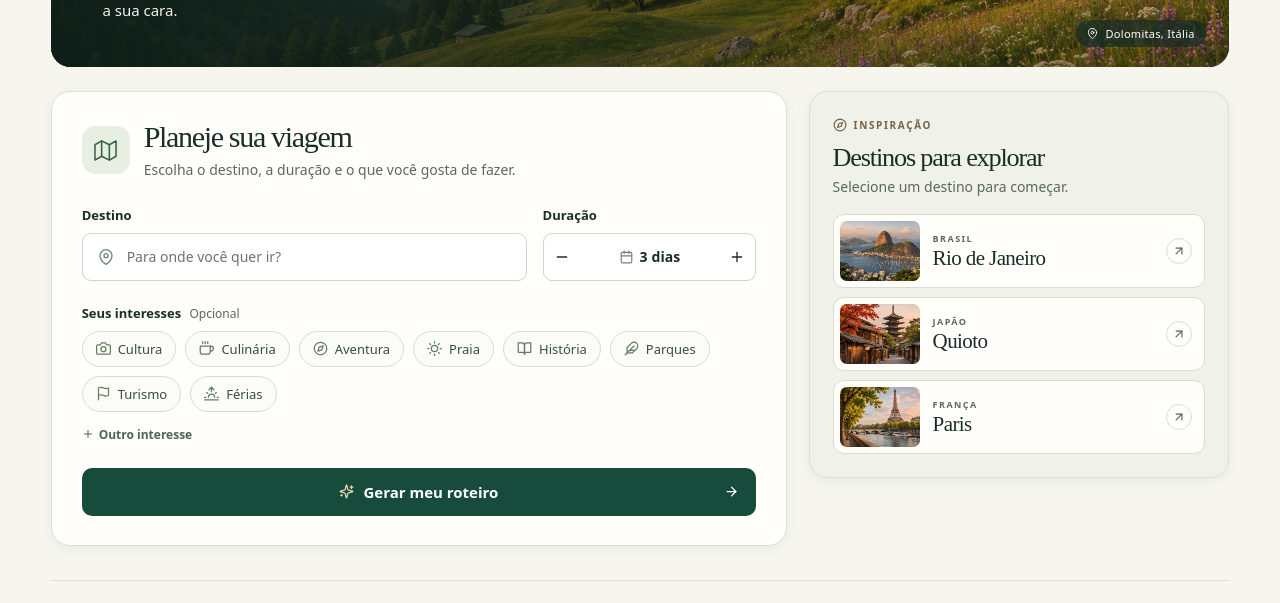
Test: a destination suggestion and custom interest produce a day-by-day plan
The image size is (1280, 603).
(page scrolled)
Click the button with aria-label "Planejar viagem para Paris": (880, 417) [833,380,1205,454]
(page scrolled)
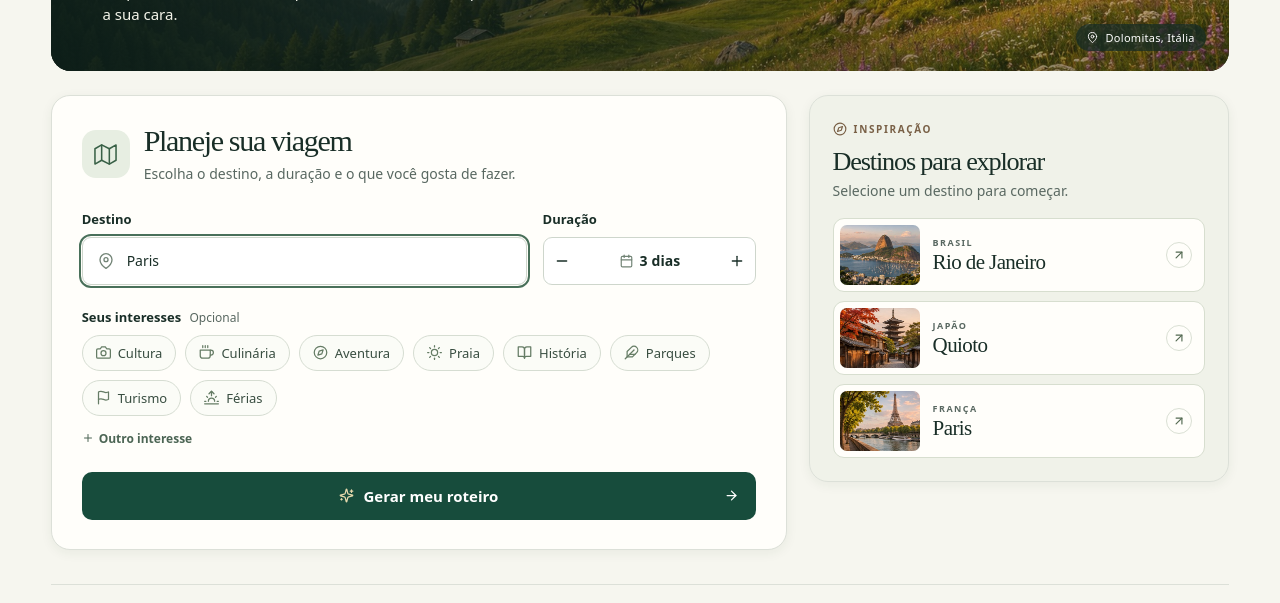
Click the button "Cultura": (129, 353) [82,335,176,371]
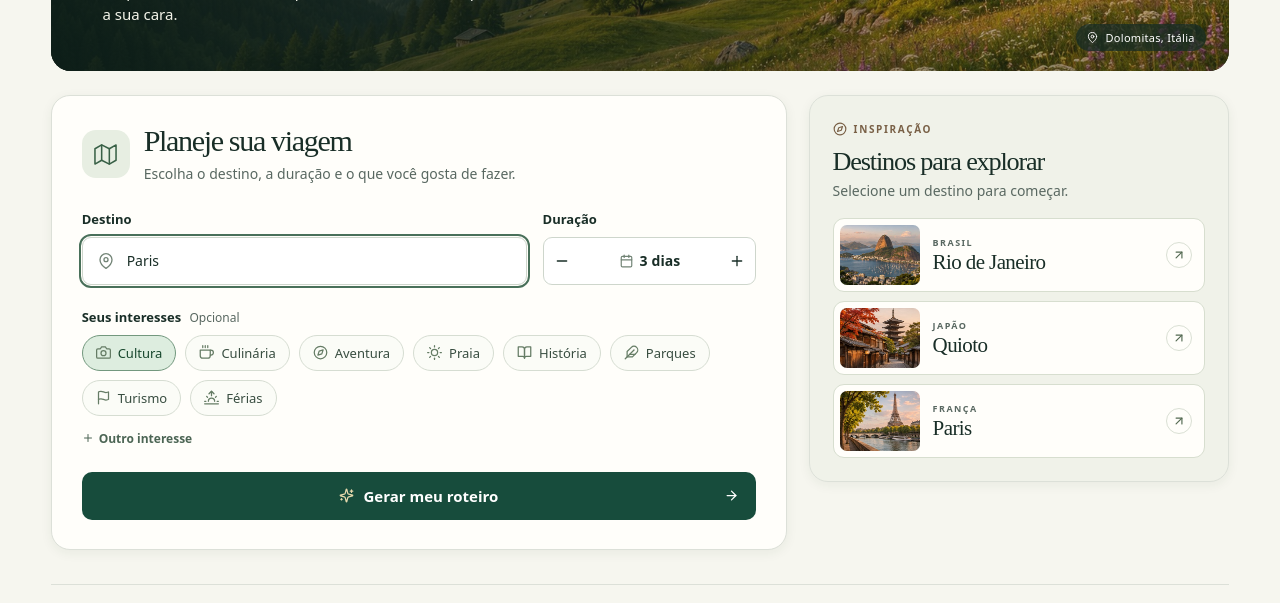
Click the button "Outro interesse": (137, 438) [82,425,192,452]
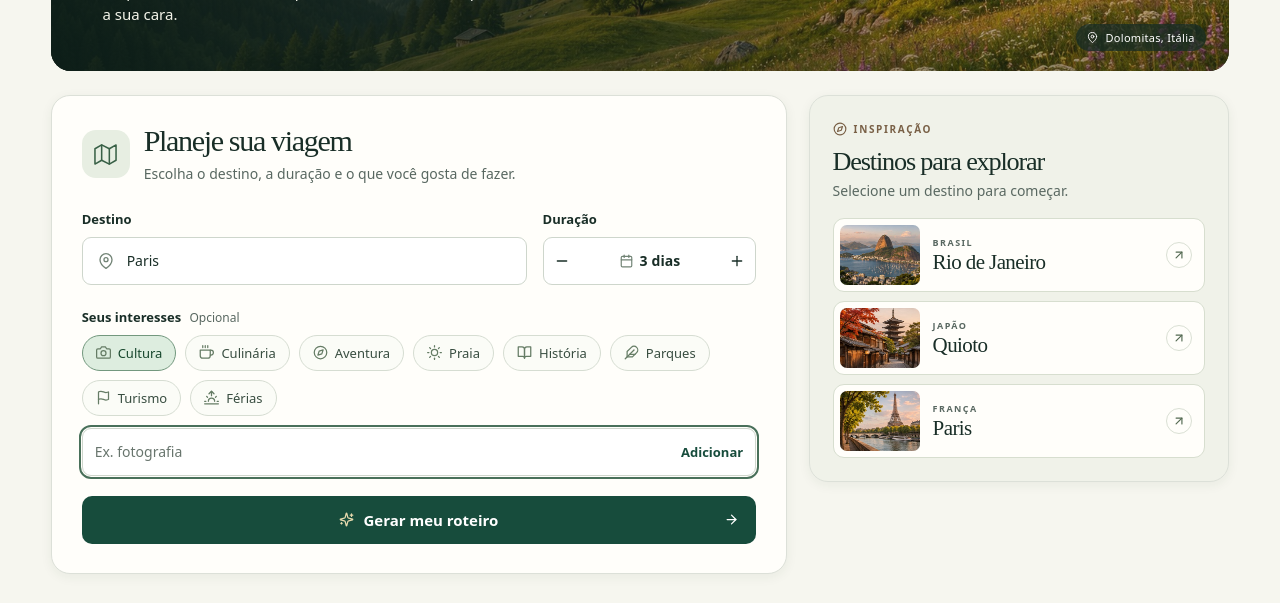
In the field named "Outro interesse": (376, 452) [83,430,669,474], type "Jazz"
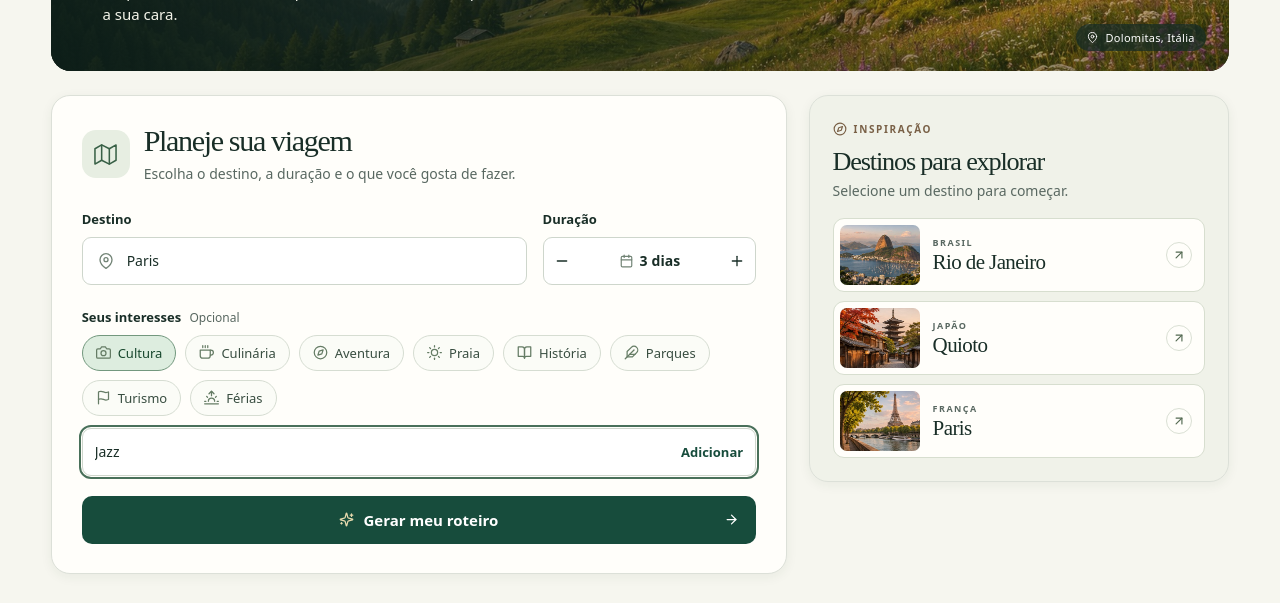
Click the button "Gerar meu roteiro": (419, 520) [82,496,756,544]
(page scrolled)
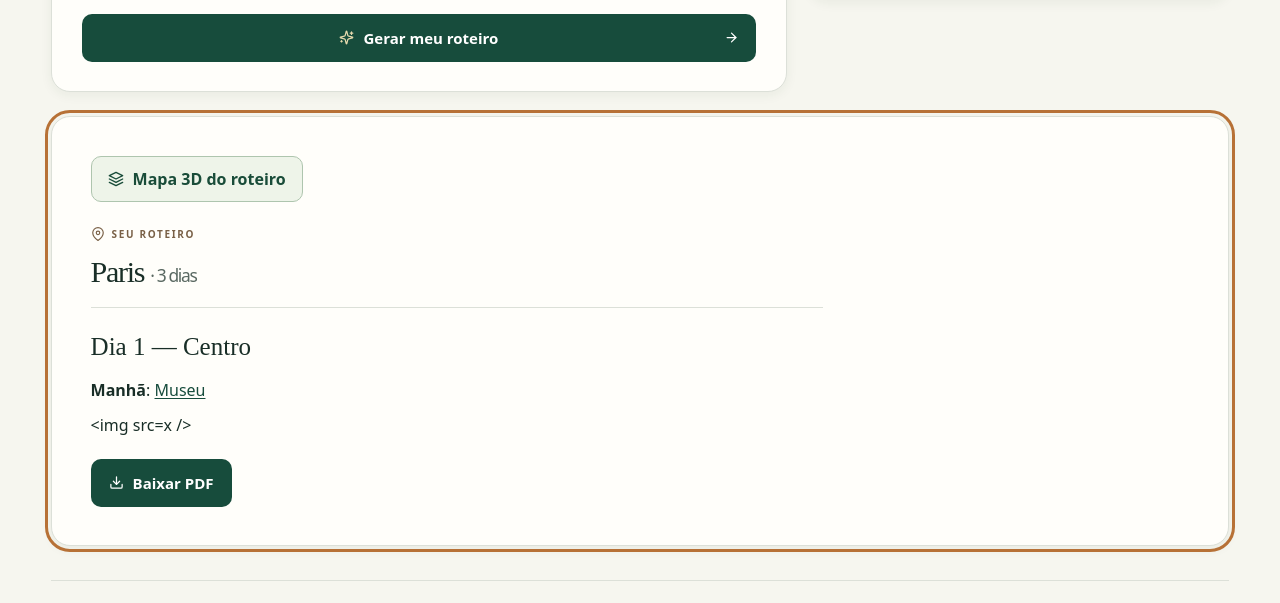
expect the heading "Dia 1 — Centro" is shown: met, box [91,308,823,368]
expect the button "Baixar PDF" is enabled: met, box [91,458,232,506]
